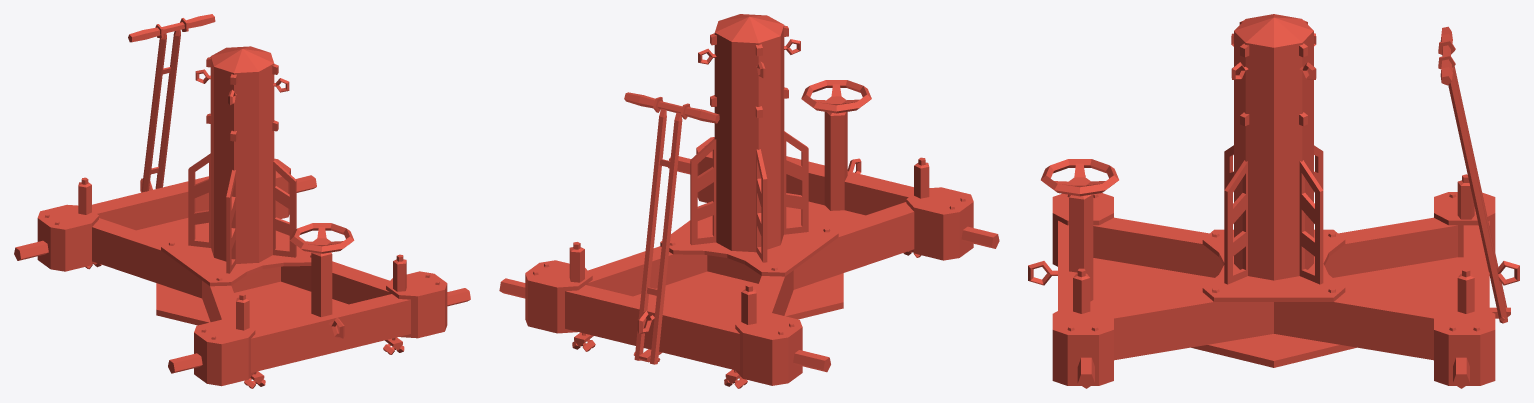
File: SM_Camera_Crane_Base.fbx
3 renders of one model, left to right at view 1: azimuth 30°, elevation 25°; view 2: azimuth 150°, elevation 25°; view 3: azimuth 270°, elevation 25°, orthographic. The views are drawn at different scales.
Parts seen in each view (by area): view 1: SM_Camera_Crane_Base; view 2: SM_Camera_Crane_Base; view 3: SM_Camera_Crane_Base.
Part boxes in pixels (x1,y1,x2,y2): SM_Camera_Crane_Base: (14,14,470,388); SM_Camera_Crane_Base: (499,14,999,388); SM_Camera_Crane_Base: (1028,14,1519,388).
Size of the model in its own units: 151 by 128 by 108.
